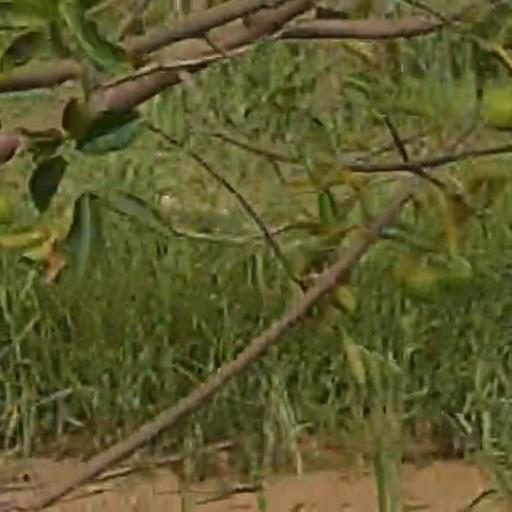acerola: (482, 84, 512, 126), (409, 265, 441, 299), (446, 261, 470, 290)
